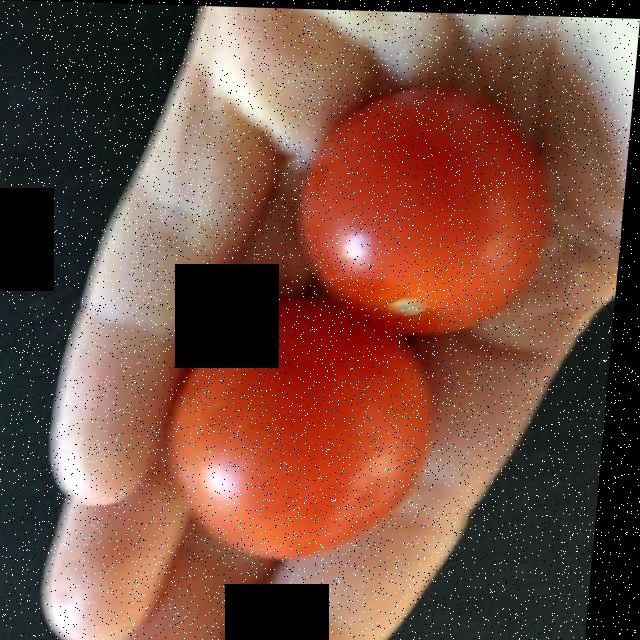tomato-raw: (166, 69, 552, 552)
